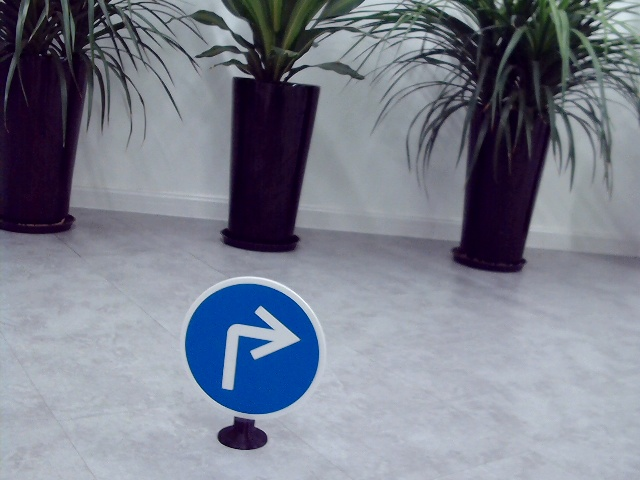turn_right: (213, 302, 298, 393)
